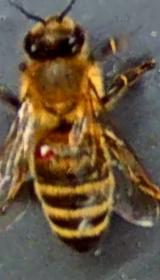varroa_mite: (21, 137, 60, 168)
